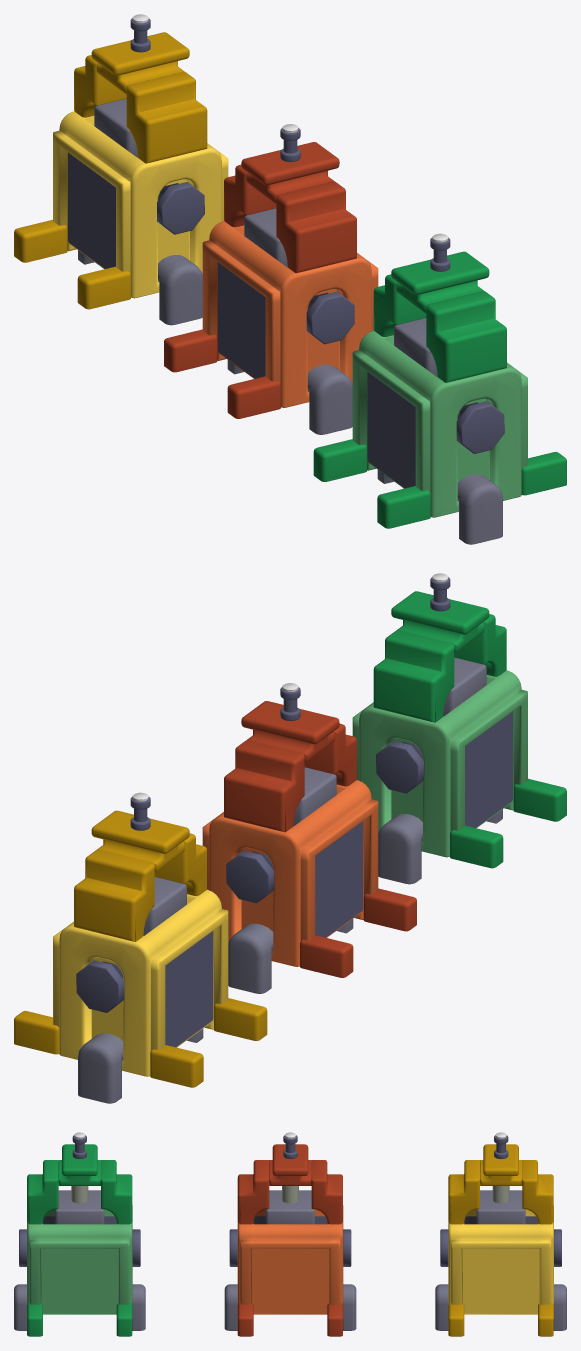
Rendered from PressMachines.fbx.
3 renders of one model, top to bottom at view 1: azimuth 30°, elevation 25°; view 2: azimuth 150°, elevation 25°; view 3: azimuth 270°, elevation 25°, orthographic. The views are drawn at different scales.
Visible parts, largest first — view 1: EmraldSmasher.001, RubySmasher.001, GoldSmasher.001, Cube.004, Cube.013, Cube.009; view 2: GoldSmasher.001, RubySmasher.001, EmraldSmasher.001, Cube.013, Cube.004, Cube.009; view 3: RubySmasher.001, EmraldSmasher.001, GoldSmasher.001, Cube.004, Cube.013, Cube.009.
Part boxes in pixels (x1=…): EmraldSmasher.001: x1=313, y1=233, x2=566, y2=544; RubySmasher.001: x1=164, y1=124, x2=378, y2=434; GoldSmasher.001: x1=14, y1=14, x2=228, y2=325; Cube.004: x1=394, y1=318, x2=437, y2=376; Cube.013: x1=94, y1=98, x2=137, y2=157; Cube.009: x1=244, y1=208, x2=287, y2=266; GoldSmasher.001: x1=14, y1=792, x2=267, y2=1103; RubySmasher.001: x1=202, y1=683, x2=416, y2=993; EmraldSmasher.001: x1=352, y1=573, x2=566, y2=884; Cube.013: x1=143, y1=877, x2=186, y2=935; Cube.004: x1=443, y1=657, x2=486, y2=716; Cube.009: x1=293, y1=767, x2=336, y2=825; RubySmasher.001: x1=224, y1=1132, x2=356, y2=1336; EmraldSmasher.001: x1=14, y1=1132, x2=145, y2=1336; GoldSmasher.001: x1=435, y1=1132, x2=566, y2=1336; Cube.004: x1=55, y1=1190, x2=104, y2=1224; Cube.013: x1=476, y1=1190, x2=525, y2=1224; Cube.009: x1=266, y1=1190, x2=314, y2=1224.
Size of the model in its own units: 2.8 by 3.98 by 10.5.
Materials: 1 (1 with a texture image).
